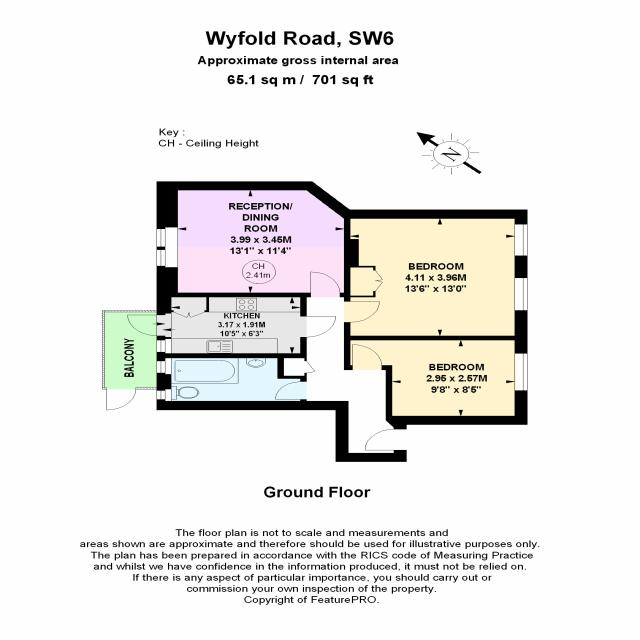DOOR: (363, 428, 408, 452), (351, 343, 384, 371), (309, 270, 342, 298), (126, 314, 166, 337), (299, 315, 337, 339), (343, 300, 381, 323), (274, 380, 307, 401)
ROOM: (343, 209, 528, 341), (156, 181, 359, 298), (344, 335, 528, 430), (127, 292, 337, 358)
WINDOW: (514, 353, 529, 392), (514, 223, 529, 256), (514, 277, 528, 311), (156, 228, 166, 247), (156, 249, 166, 267), (156, 339, 166, 353), (156, 360, 166, 374), (156, 390, 166, 400)
